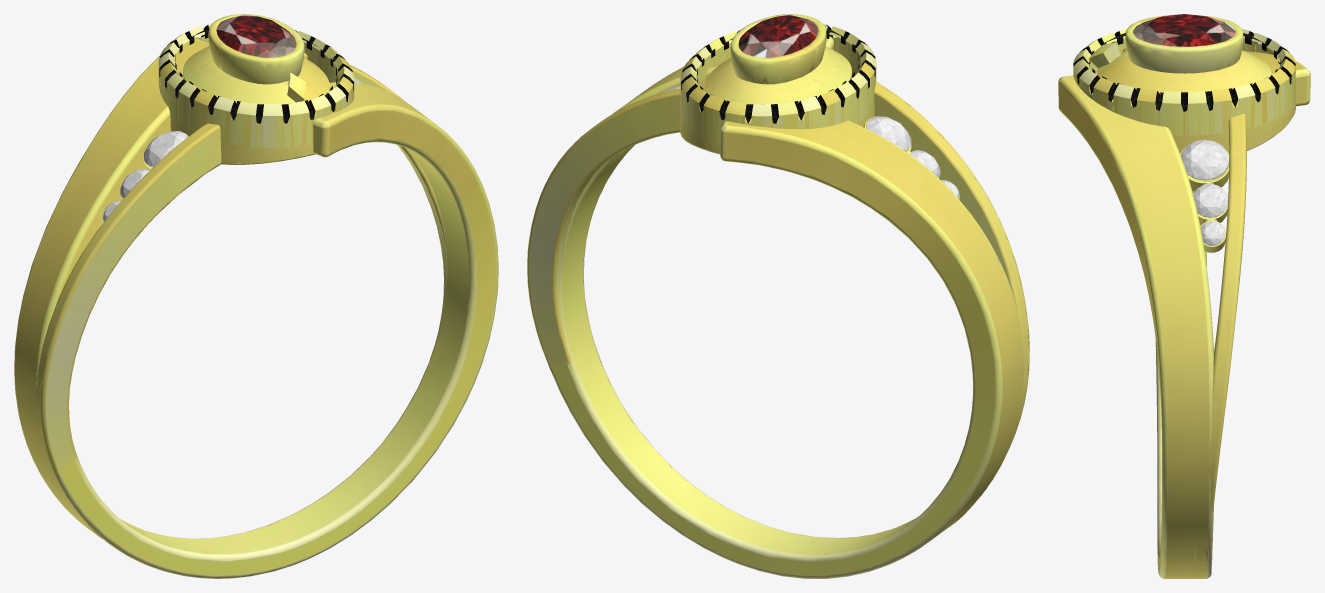
Rendered from ring5.glb.
3 renders of one model, left to right at view 1: azimuth 30°, elevation 25°; view 2: azimuth 150°, elevation 25°; view 3: azimuth 270°, elevation 25°, orthographic.
Visible parts, largest first — view 1: body, core, black, diamond; view 2: body, core, black, diamond; view 3: body, diamond, core, black.
Part boxes in pixels (<box>): body: <box>14,14,498,578</box>; core: <box>216,14,296,57</box>; black: <box>159,25,353,123</box>; diamond: <box>103,77,362,221</box>; body: <box>527,14,1029,578</box>; core: <box>738,15,818,57</box>; black: <box>681,25,875,123</box>; diamond: <box>661,86,959,199</box>; body: <box>1058,15,1310,578</box>; diamond: <box>1180,139,1228,245</box>; core: <box>1133,14,1235,46</box>; black: <box>1073,31,1295,111</box>.
Bounding box in the file's own units: 29.27 × 32.16 × 13.84.
Materials: 4 (4 with a texture image).
